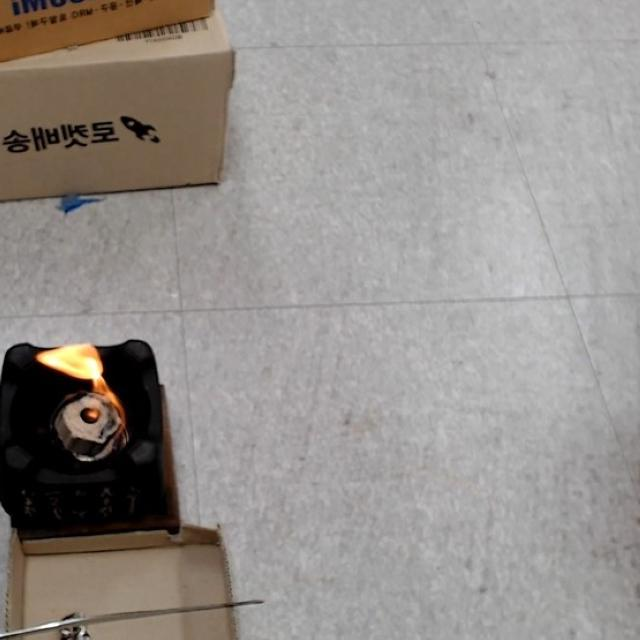Fire: (34, 330, 132, 434)
